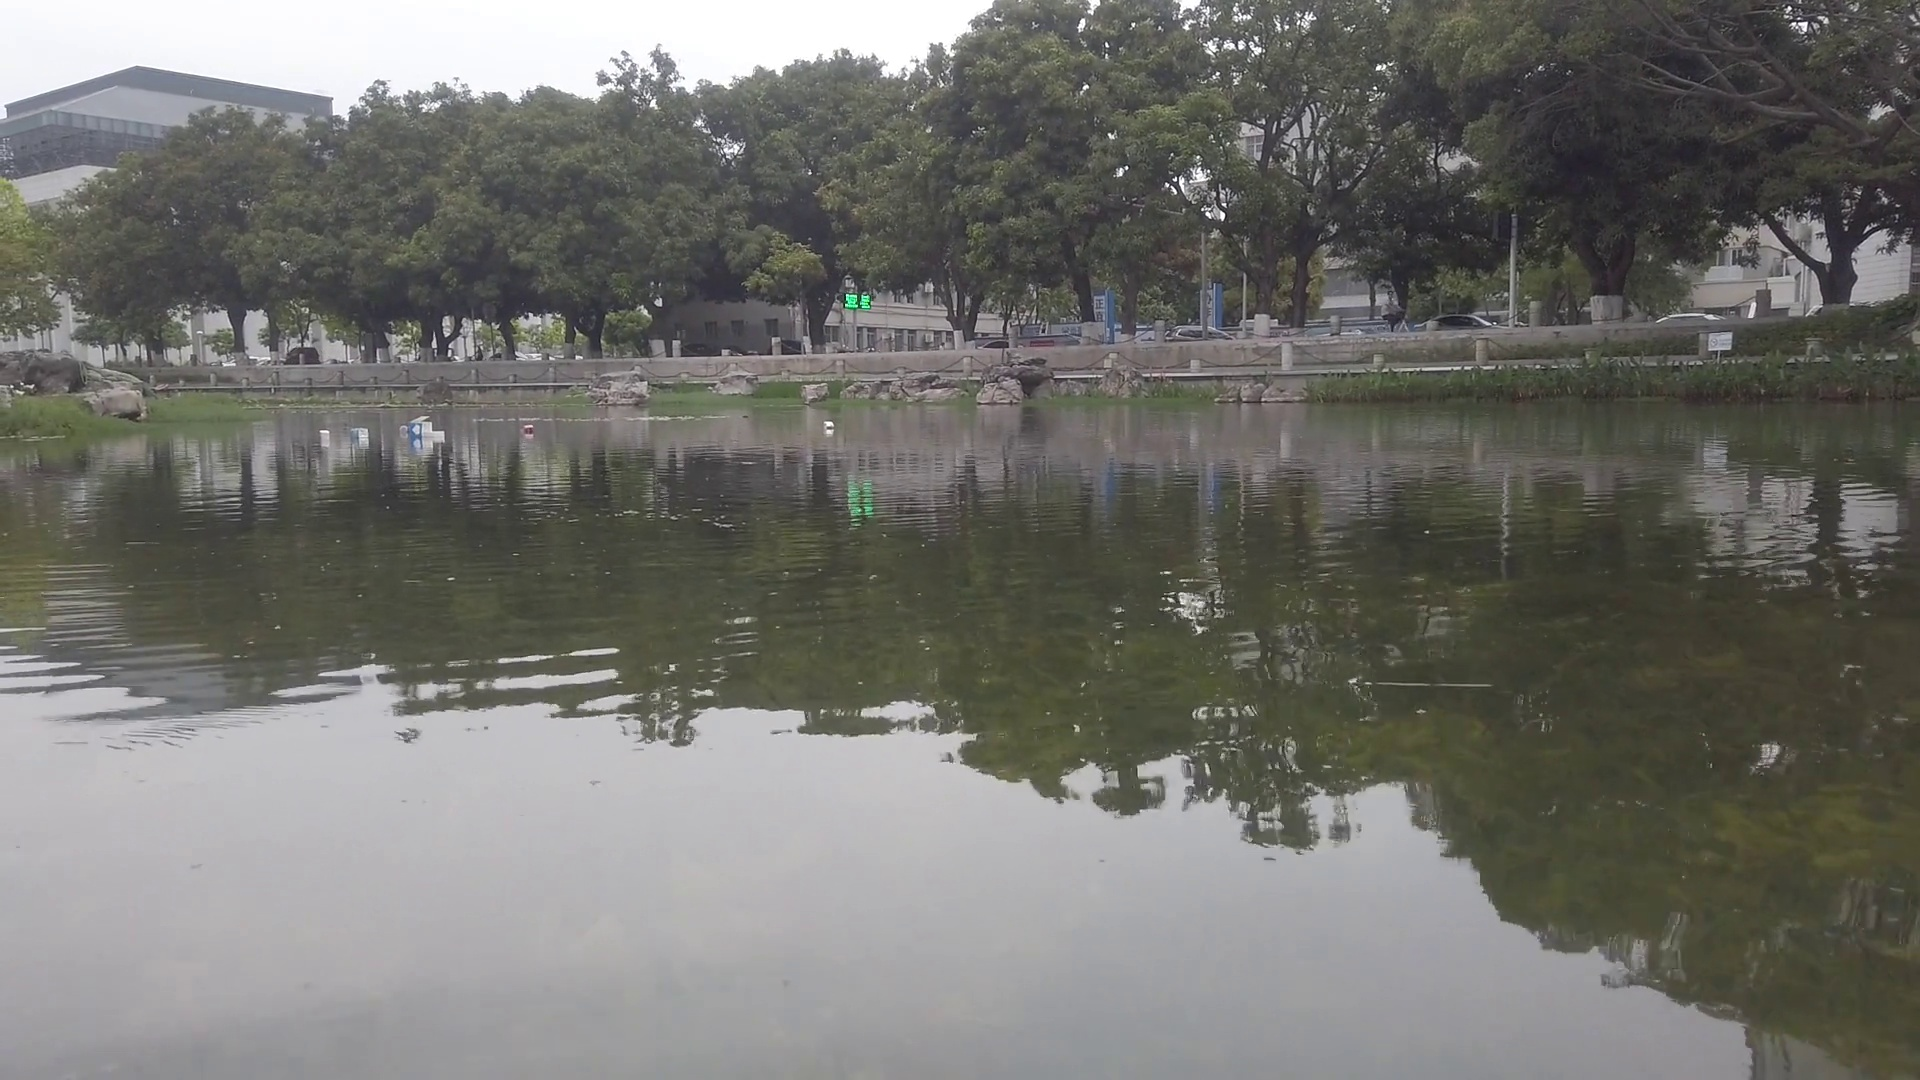bottle: (522, 425, 534, 433)
carton: (410, 418, 436, 440), (349, 425, 371, 443), (318, 429, 334, 436), (823, 421, 835, 429)
